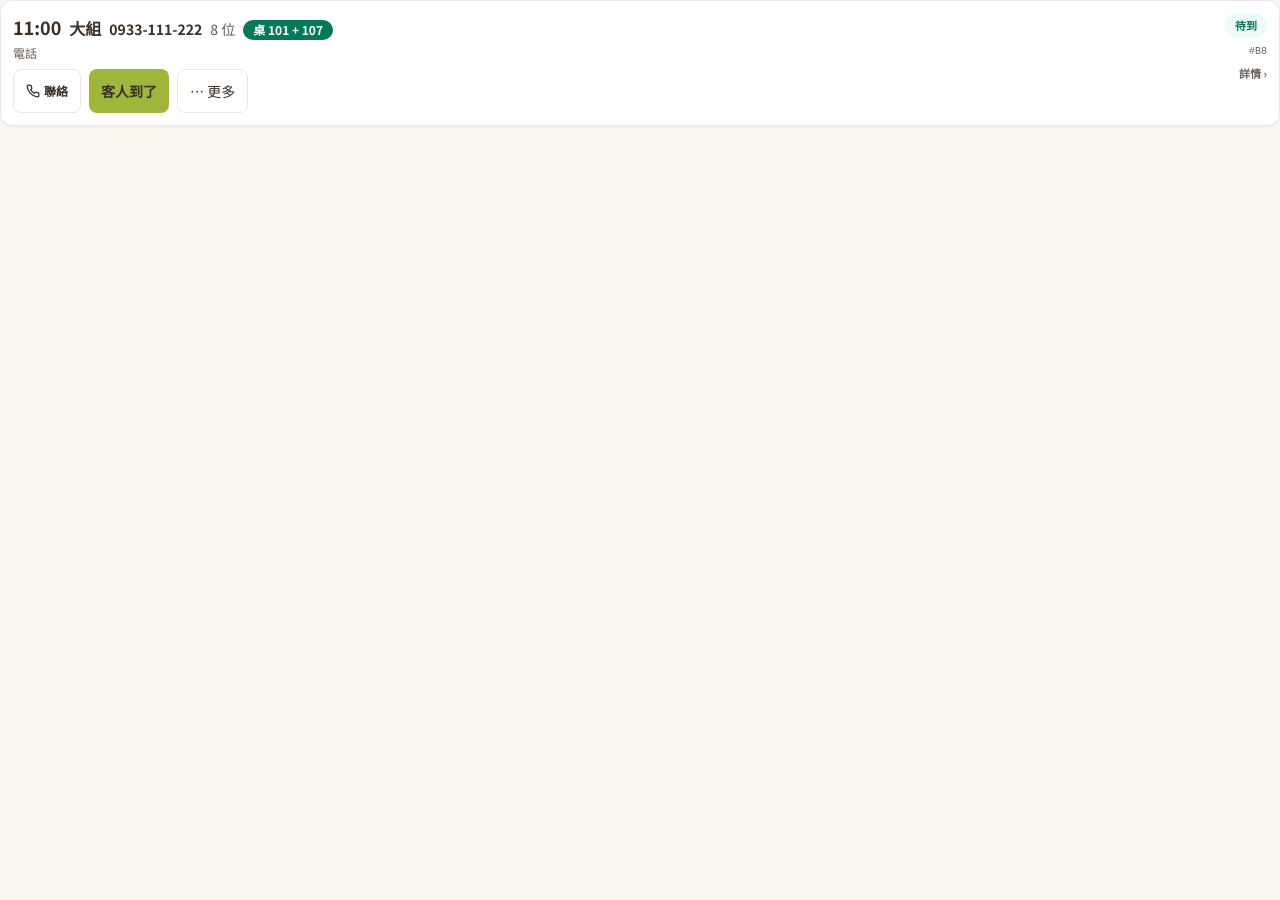
it: 併桌訂位（101＋107）顯示 › 詳情表「改桌」鈕列出所有桌
Click the button titled "點擊看完整詳情" at (37, 27), box [9, 9, 1209, 65]
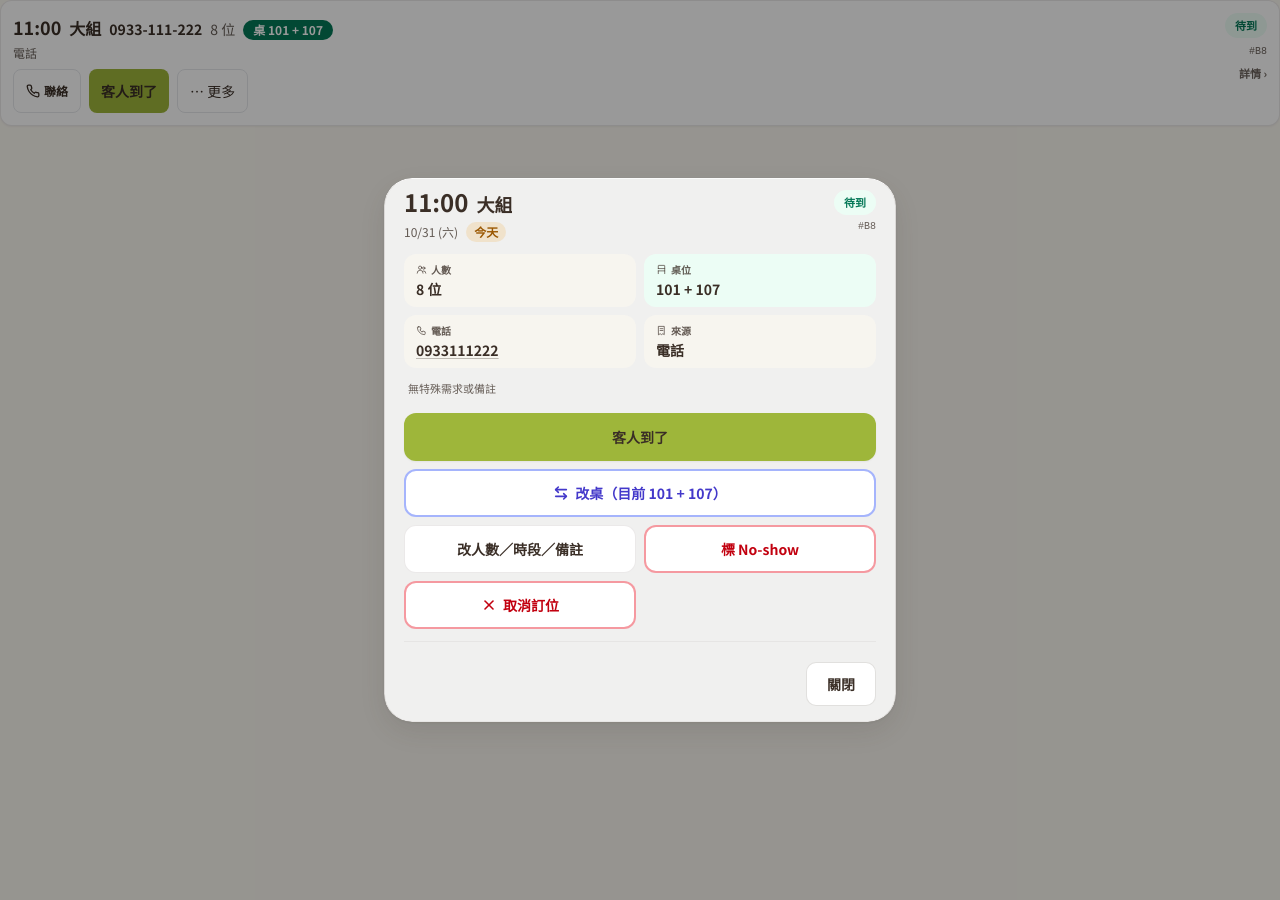
Now the text "改桌（目前 101 + 107）" is shown, box [575, 483, 727, 503]
